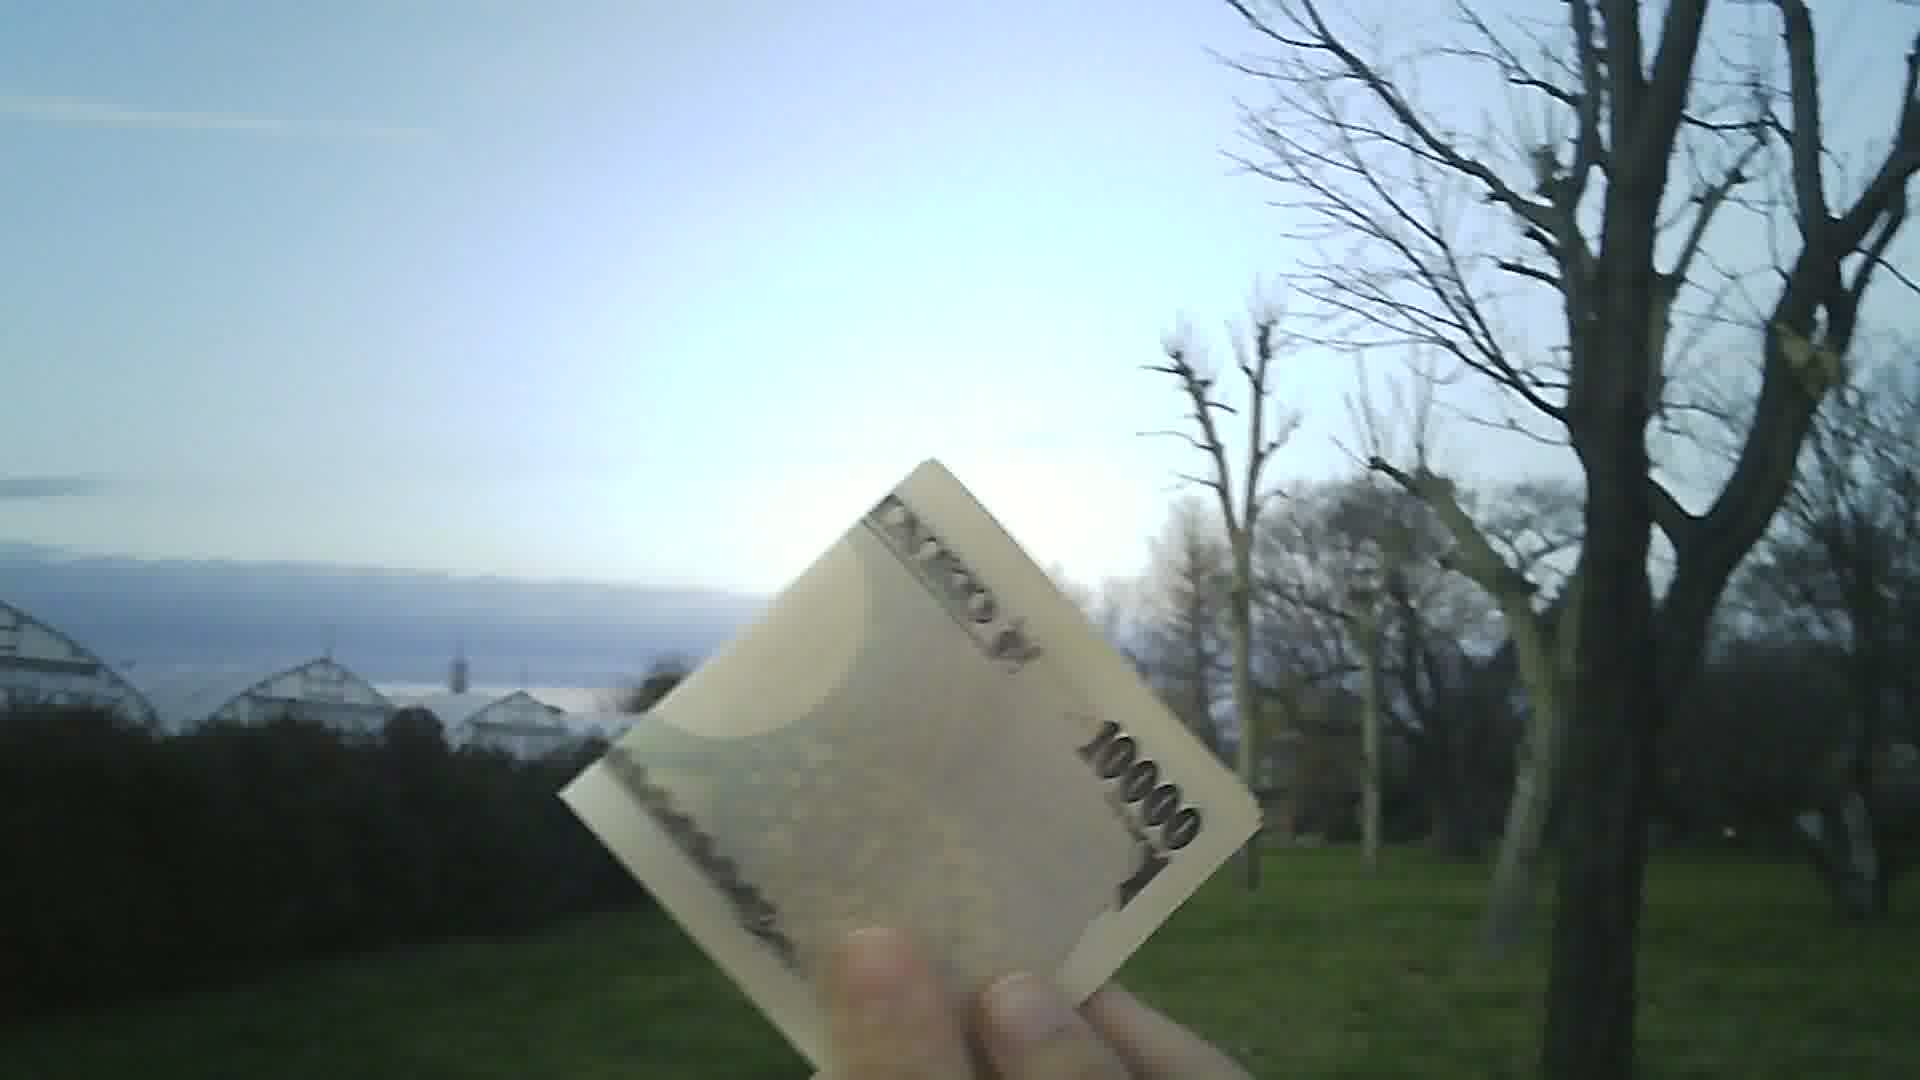10,000 Yen: (546, 447, 1265, 1060)
